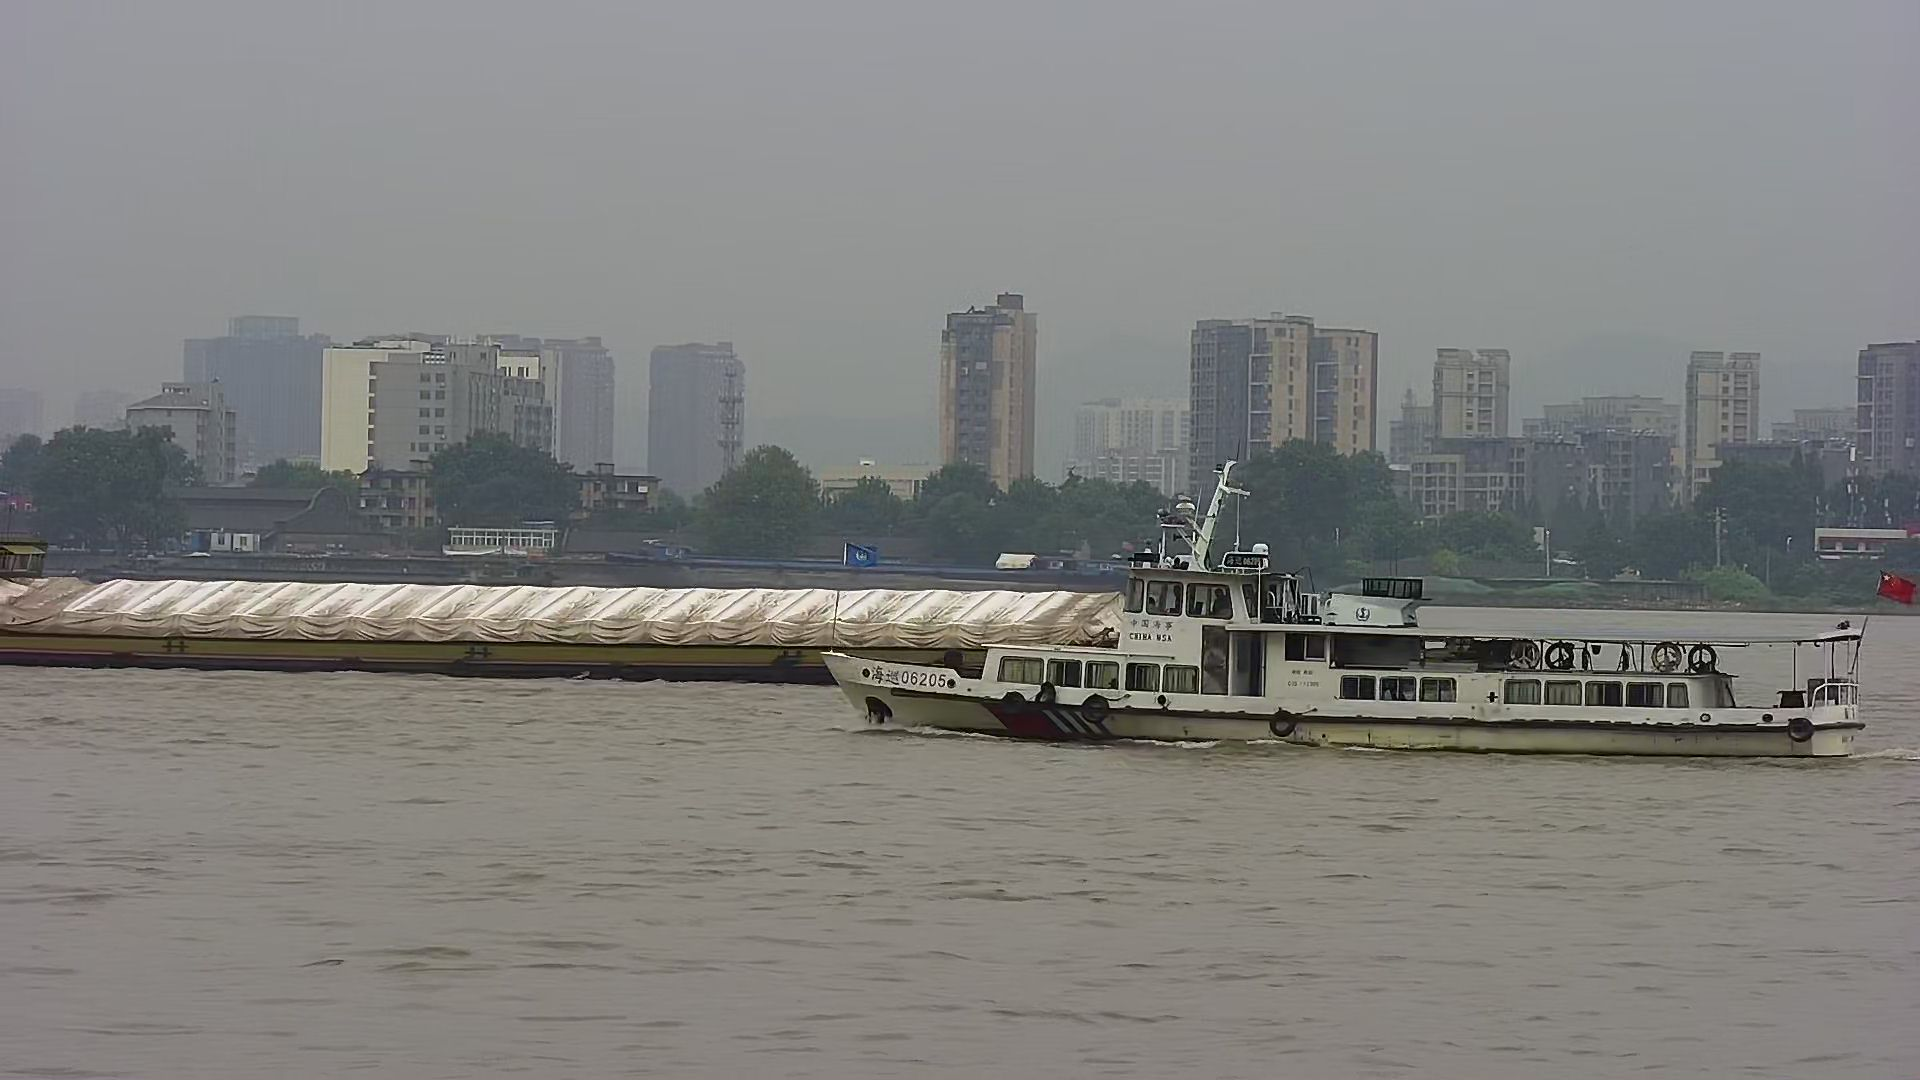ship: (800, 436, 1911, 766), (1, 506, 1120, 691)
